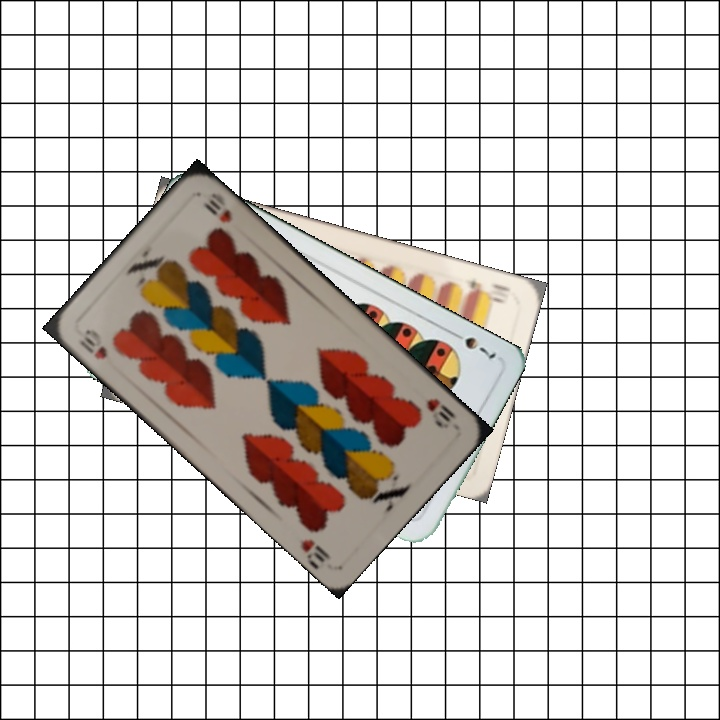E10: (461, 276, 514, 306)
H10: (422, 394, 458, 431), (75, 325, 110, 362)
S7: (446, 327, 499, 362)
